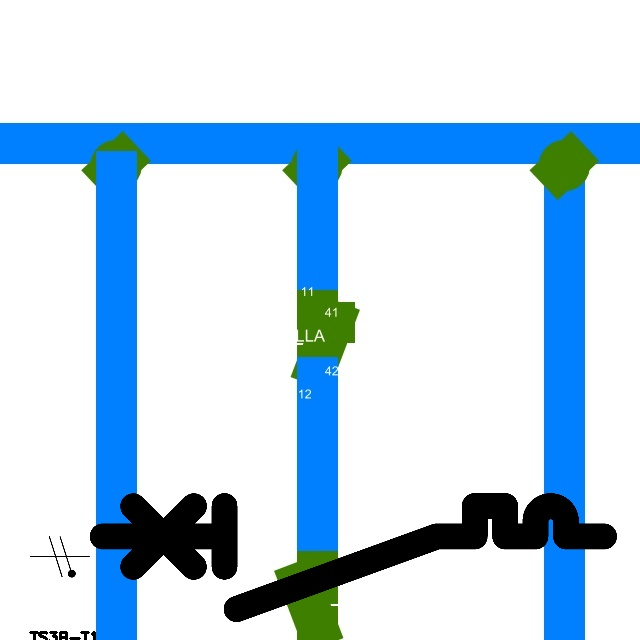interruptor_termomagnetico: (89, 493, 616, 622)
